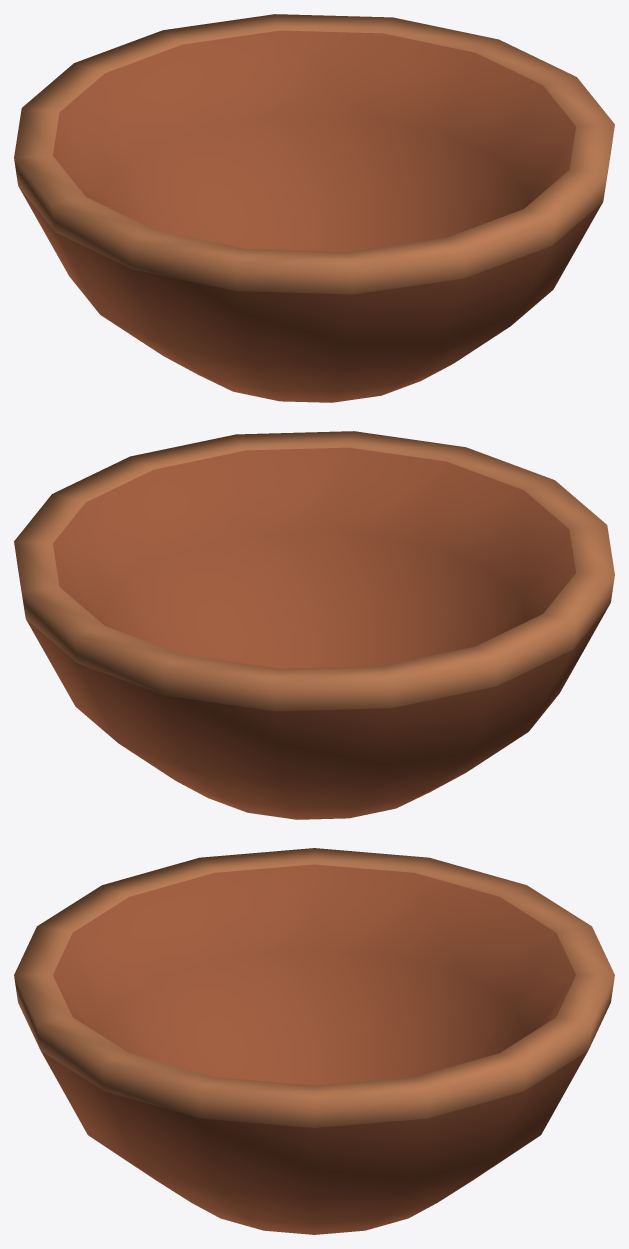
File: exhibit_shallow_bowl.glb
3 renders of one model, top to bottom at view 1: azimuth 30°, elevation 25°; view 2: azimuth 150°, elevation 25°; view 3: azimuth 270°, elevation 25°, orthographic.
Visible parts, largest first — view 1: Body; view 2: Body; view 3: Body.
Boxes of the visible parts, left/top/right/bottom form: Body: left=14, top=14, right=614, bottom=402; Body: left=14, top=431, right=614, bottom=819; Body: left=14, top=848, right=614, bottom=1234.
Bounding box in the file's own units: 0.294 × 0.11 × 0.294.
